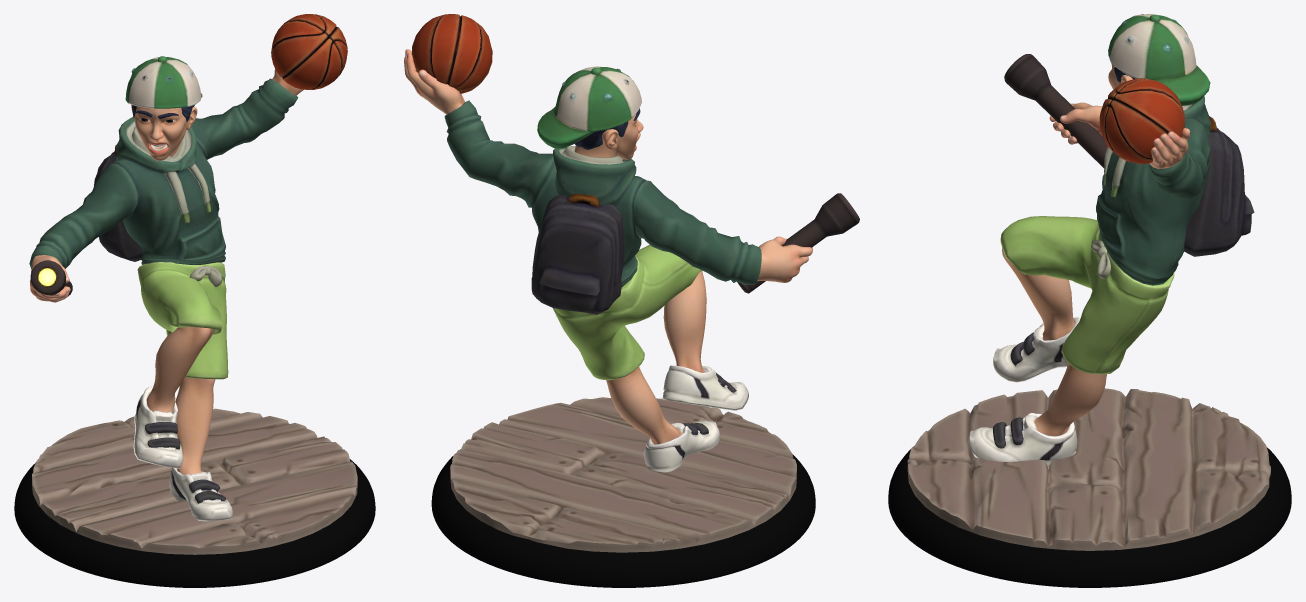
File: sammy-angler.glb
3 views of the same model, side by side, from view 1: azimuth 30°, elevation 25°; view 2: azimuth 150°, elevation 25°; view 3: azimuth 270°, elevation 25° (orthographic). The views are drawn at different scales.
Bounding box in the file's own units: 0.8565 × 1 × 0.736.
1 material, 1 textured.
